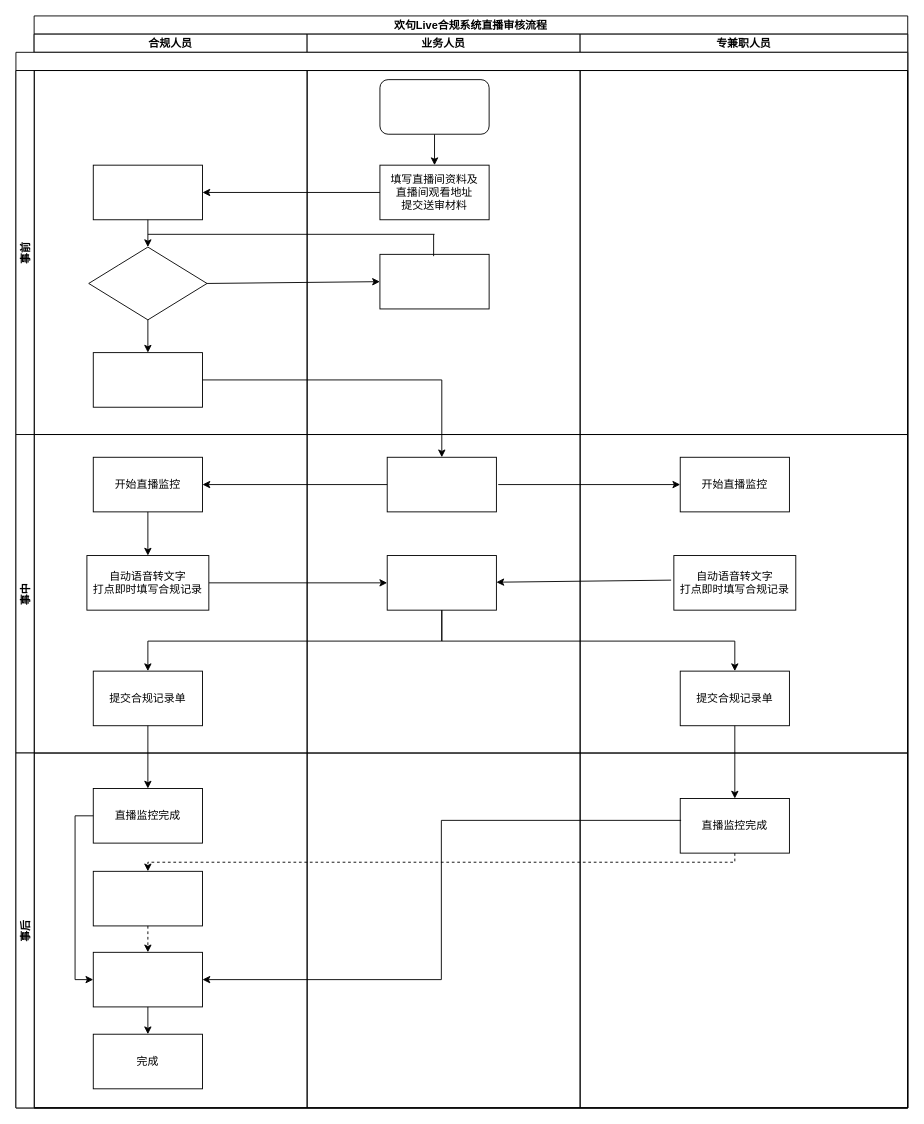
Image size: 924x1124. Some labels were removed from this diagram. Here are the shapes that lost their labels. From the top down, the centre of each, then its label:
At (434,106): "创建直播间".
At (147,192): "审核直播间资料".
At (147,283): "资料审核通过".
At (434,281): "业务修改资料 重新提交".
At (147,379): "资料审核完成".
At (441,484): "开始直播".
At (441,582): "结束直播".
At (147,898): "事后回溯抽查".
At (147,979): "自动合规存储".
